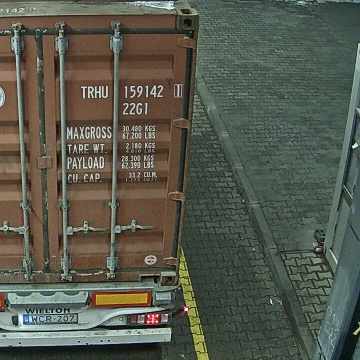serial_id: (80, 85, 180, 98)
